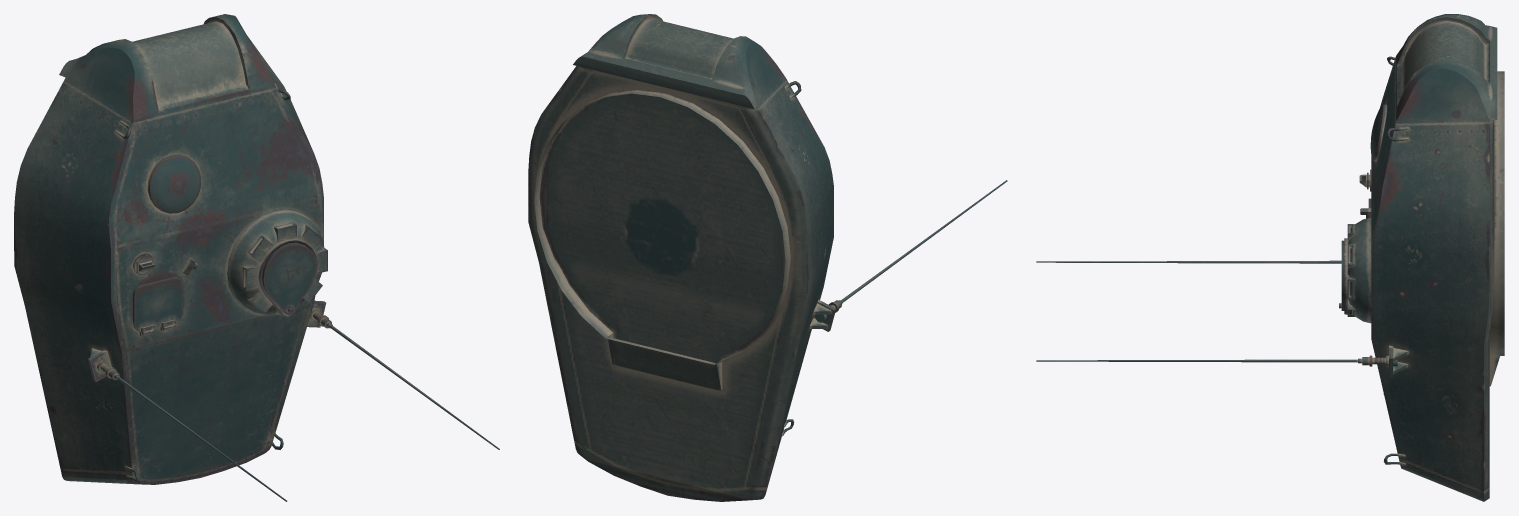
The model's file is Turret_01.glb.
The picture shows the model from 3 angles, left to right: view 1: azimuth 30°, elevation 25°; view 2: azimuth 150°, elevation 25°; view 3: azimuth 270°, elevation 25°; orthographic projection. The views are drawn at different scales.
Visible parts, largest first — view 1: set_0_group_0; view 2: set_0_group_0; view 3: set_0_group_0.
Boxes of the visible parts, x1,y1,x2,y2 form: set_0_group_0: (14, 14, 499, 501); set_0_group_0: (528, 14, 1007, 501); set_0_group_0: (1036, 14, 1504, 501).
Size of the model in its own units: 2.37 by 3.66 by 3.55.
Materials: 1 (1 with a texture image).
